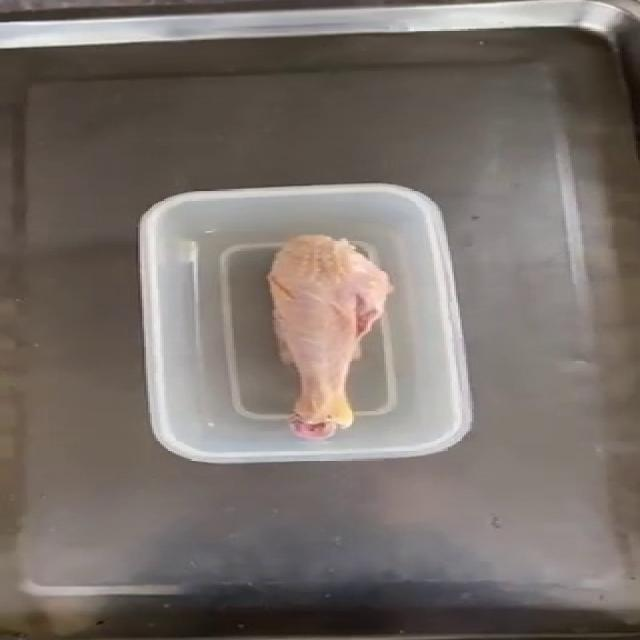chicken: (260, 231, 386, 441)
